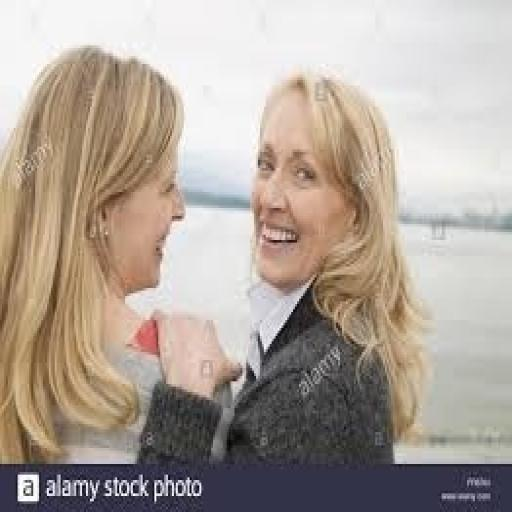hugging: (0, 42, 242, 466), (221, 64, 430, 467)
